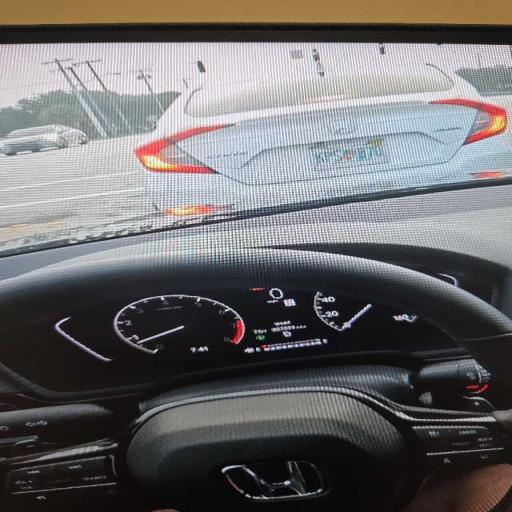car: (0, 26, 511, 511), (135, 65, 511, 213), (0, 125, 87, 155)
lane: (0, 136, 151, 241)
